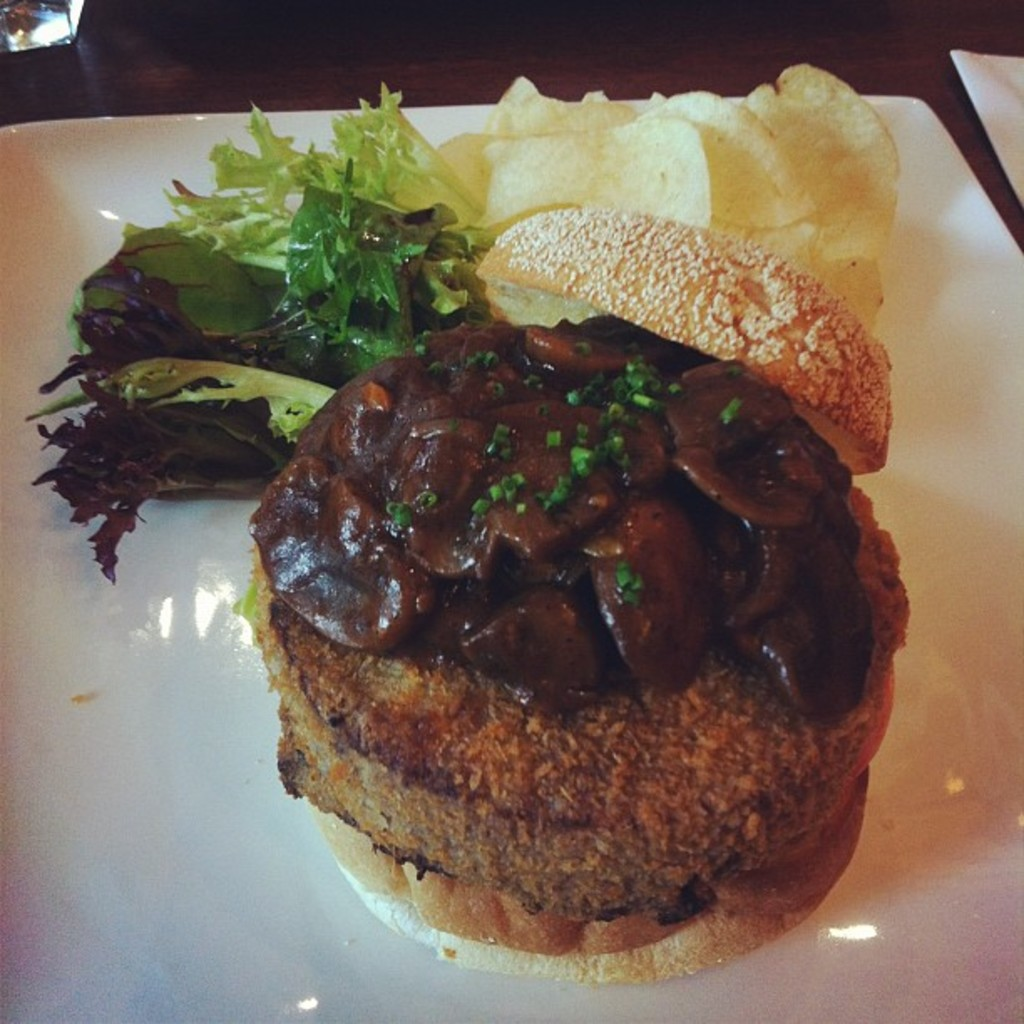Hamburger: (229, 205, 915, 987)
